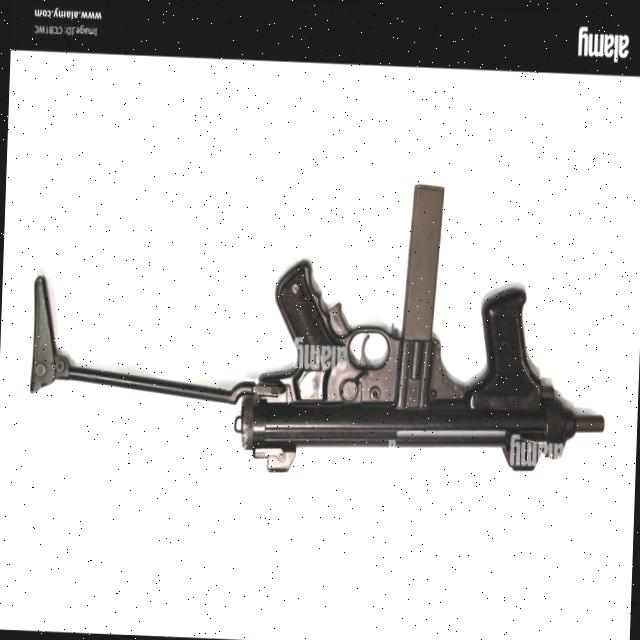firearm: (22, 162, 612, 494)
